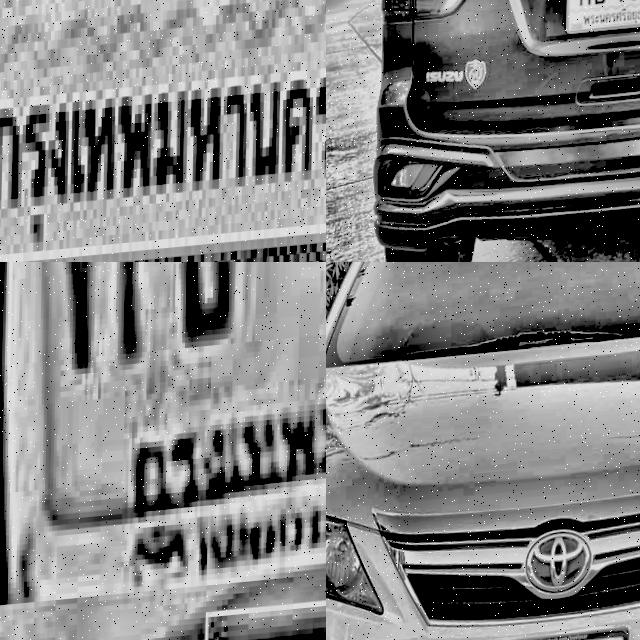license-plate: (0, 262, 326, 606), (0, 0, 326, 262), (561, 0, 640, 51)
